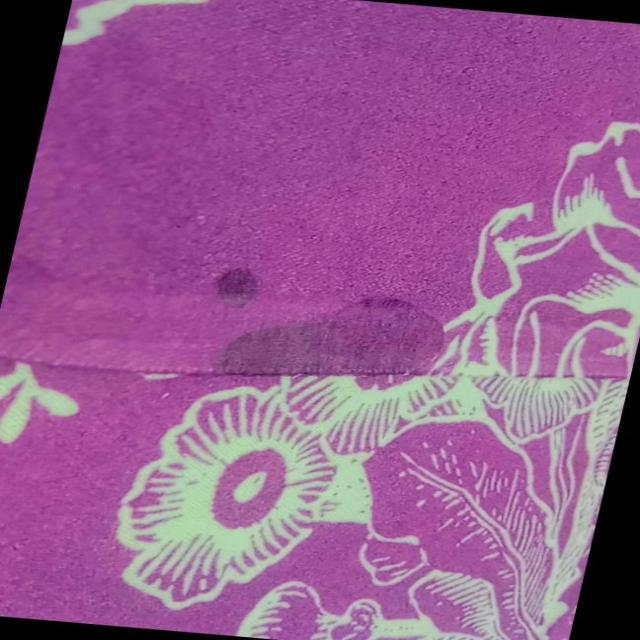stain: (179, 254, 474, 400)
